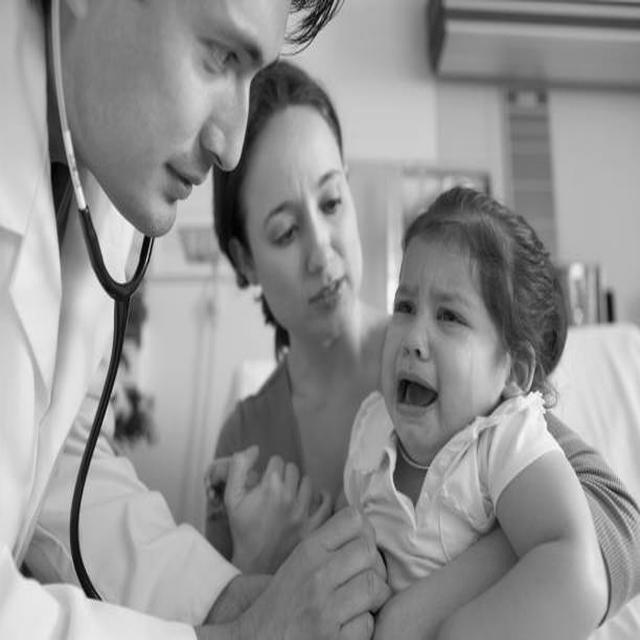Fear: (384, 232, 482, 451)
